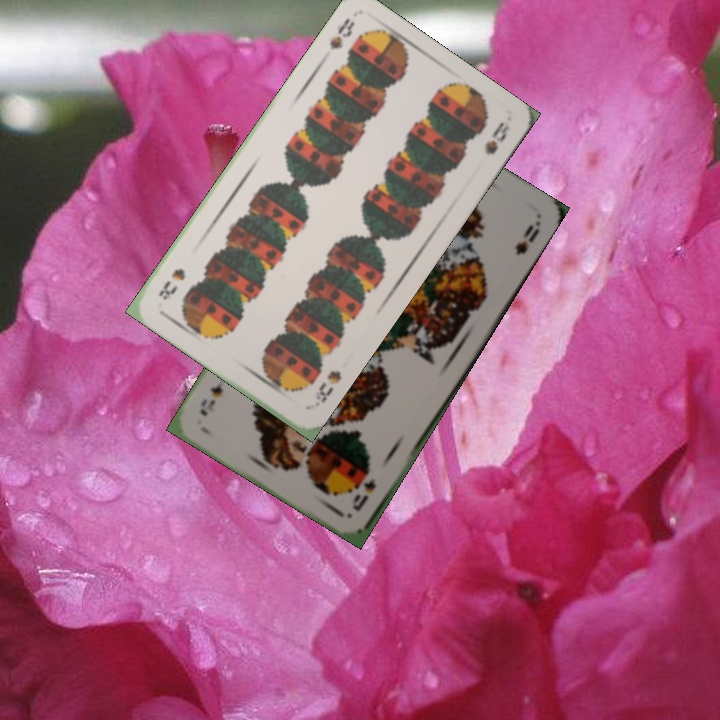S8: (304, 366, 344, 411), (325, 14, 358, 53)
SO: (347, 474, 379, 514)
